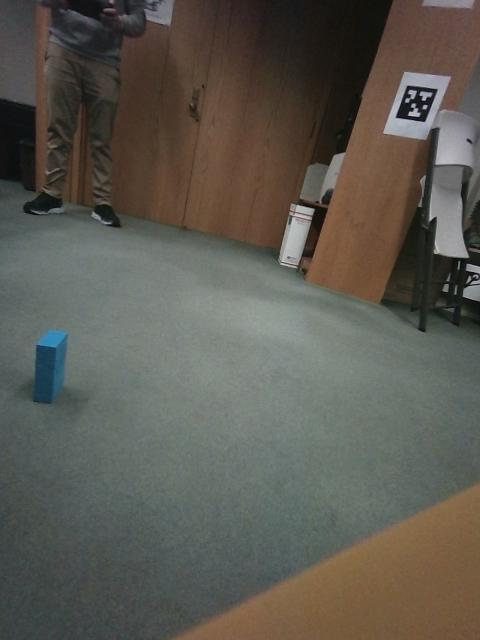block: (69, 260, 114, 328)
